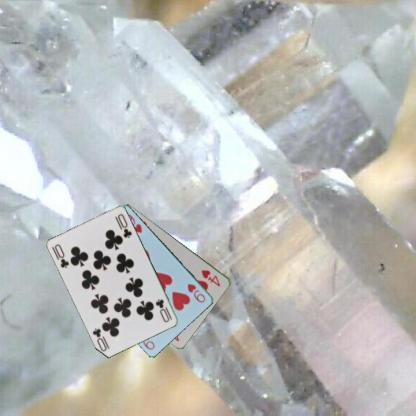10c: (153, 296, 173, 324), (52, 242, 70, 270)
4h: (199, 267, 222, 288)
9h: (185, 281, 207, 304)
